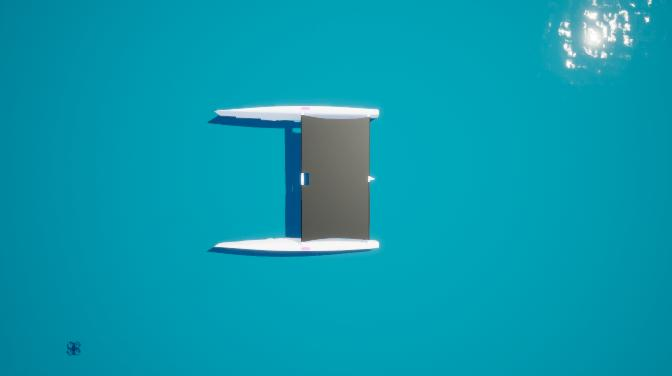boat: (210, 105, 385, 257)
drone: (63, 338, 85, 360)
land_base: (302, 114, 369, 239)
light_reflex: (522, 0, 672, 84)
